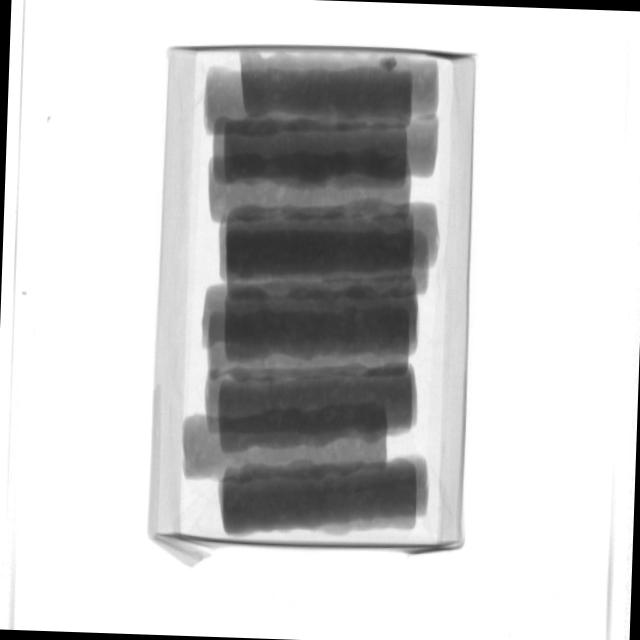ym: (381, 55, 399, 73)
